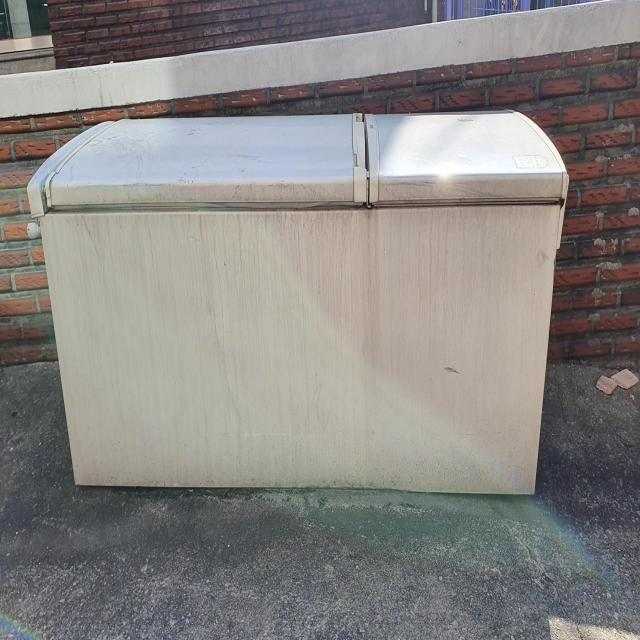refrigerator: (27, 114, 566, 497)
